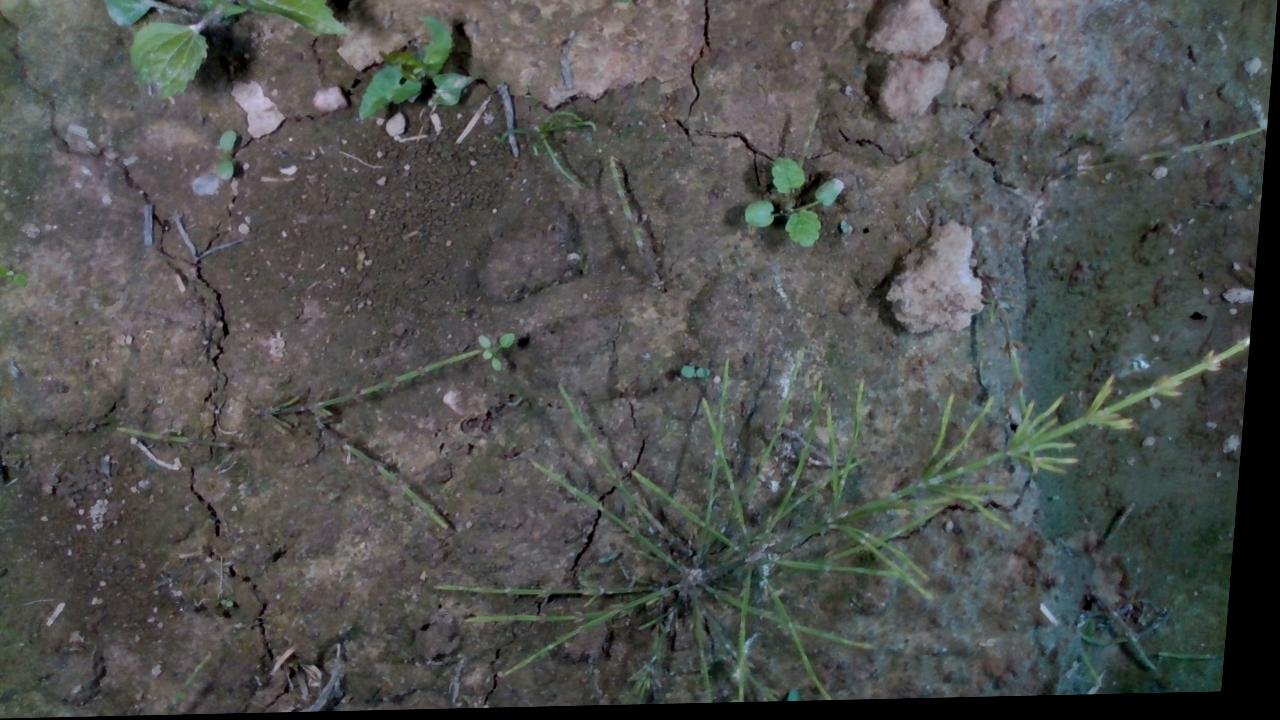weed: (742, 155, 849, 253), (480, 332, 521, 374), (217, 128, 241, 180), (685, 366, 717, 382), (228, 597, 244, 608)
